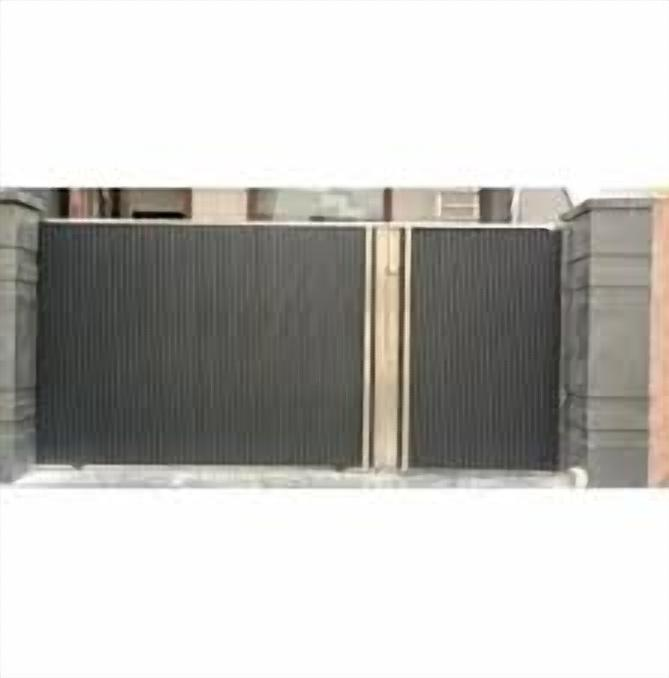Gate: (32, 219, 564, 474)
Window-without-grill: (246, 188, 387, 225), (479, 189, 516, 224)
